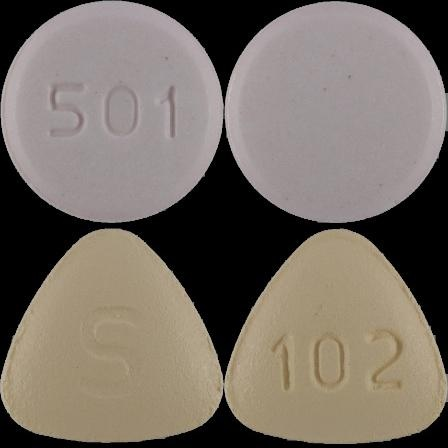16714-501: (0, 0, 224, 224)
